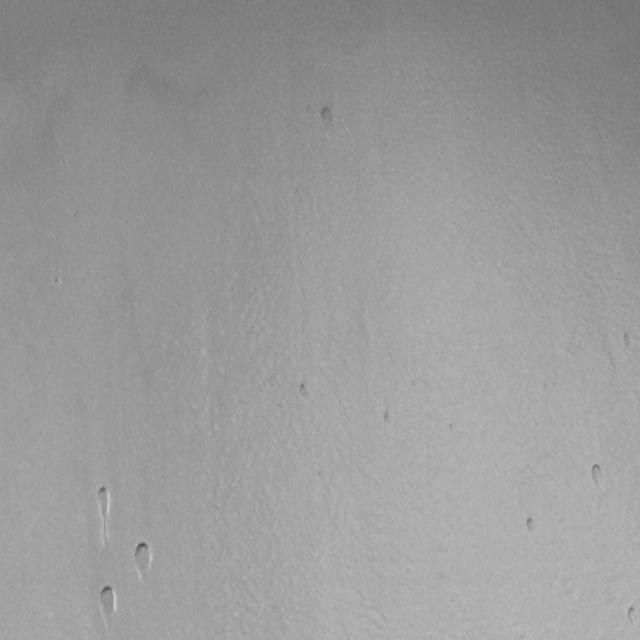pin holes: (90, 484, 114, 527), (97, 585, 121, 620), (132, 540, 155, 576), (586, 461, 608, 490), (314, 104, 337, 131), (624, 603, 640, 630), (295, 378, 313, 402), (522, 514, 539, 536), (622, 330, 636, 356), (380, 409, 394, 428), (52, 274, 65, 288)
